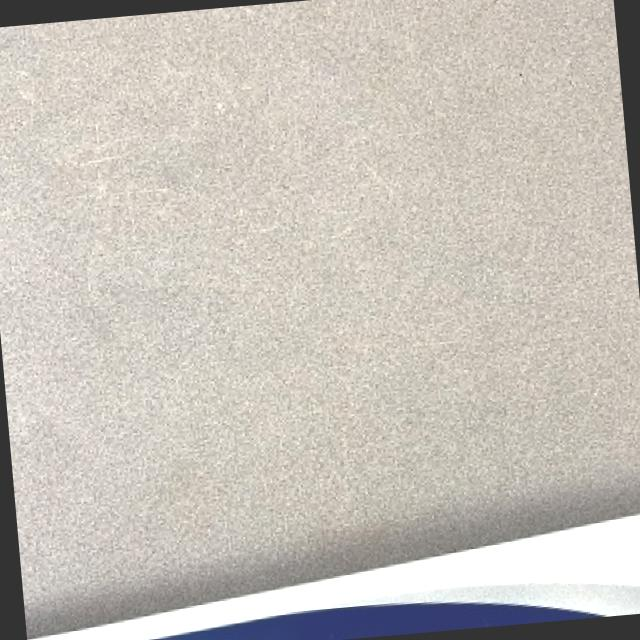healthy: (0, 0, 640, 632), (29, 511, 640, 640)
